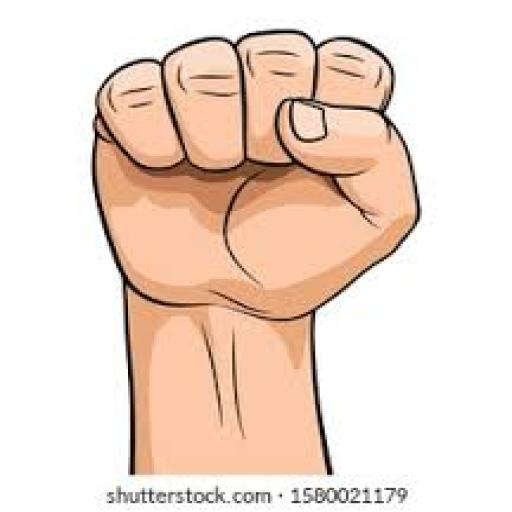Fist: (52, 6, 443, 372)
